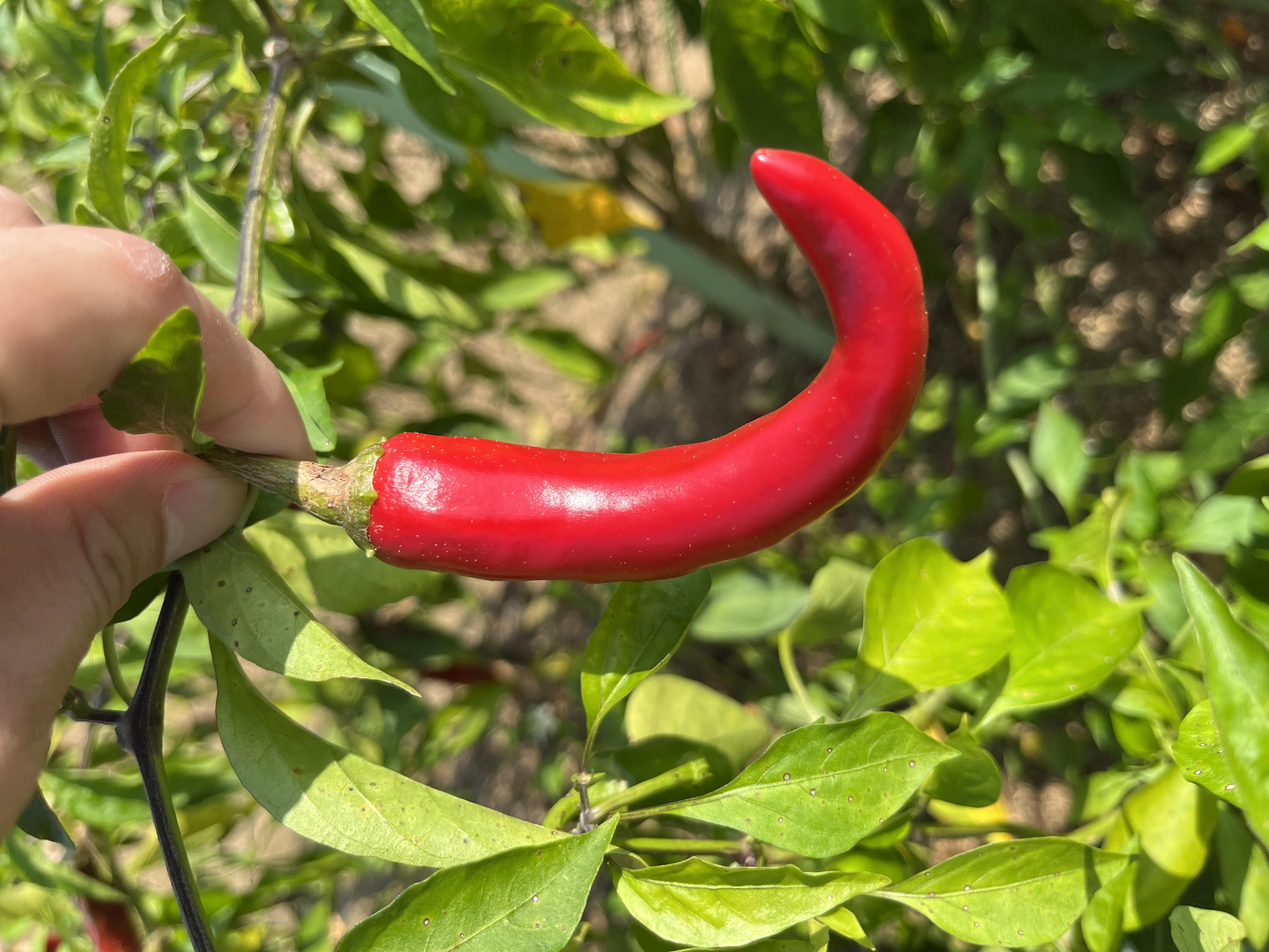Bercak Daun Serkospora: (109, 140, 403, 435), (0, 232, 208, 473), (120, 504, 329, 723), (0, 667, 165, 864)
Buah Cabai Sehat: (459, 247, 1107, 705)
Daun Cabai Sehat: (0, 457, 126, 679)
